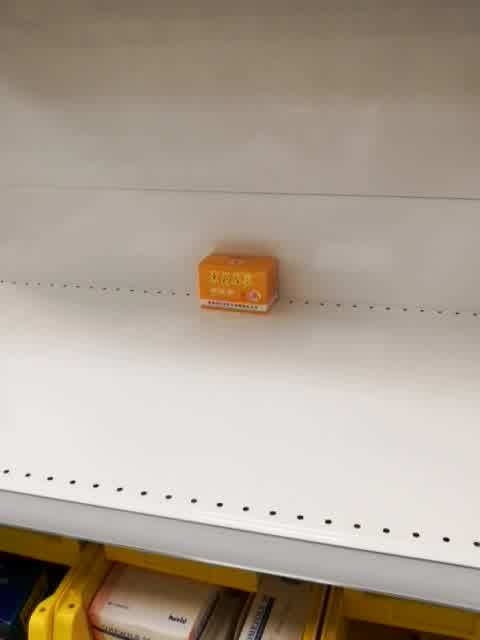jasminetea: (196, 250, 281, 316)
